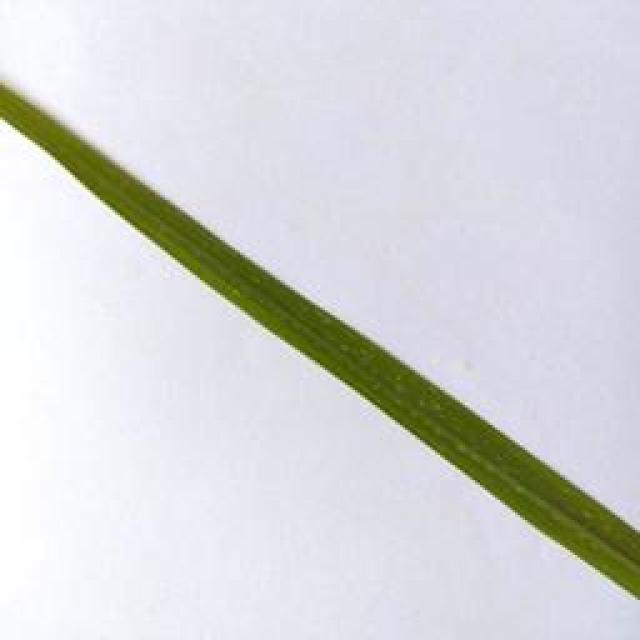Healthy-Plant: (0, 80, 640, 600)
